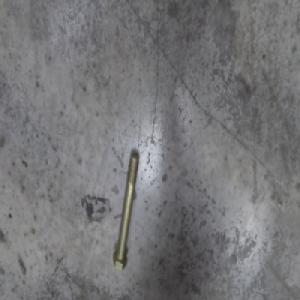Bolt: (111, 149, 138, 272)
